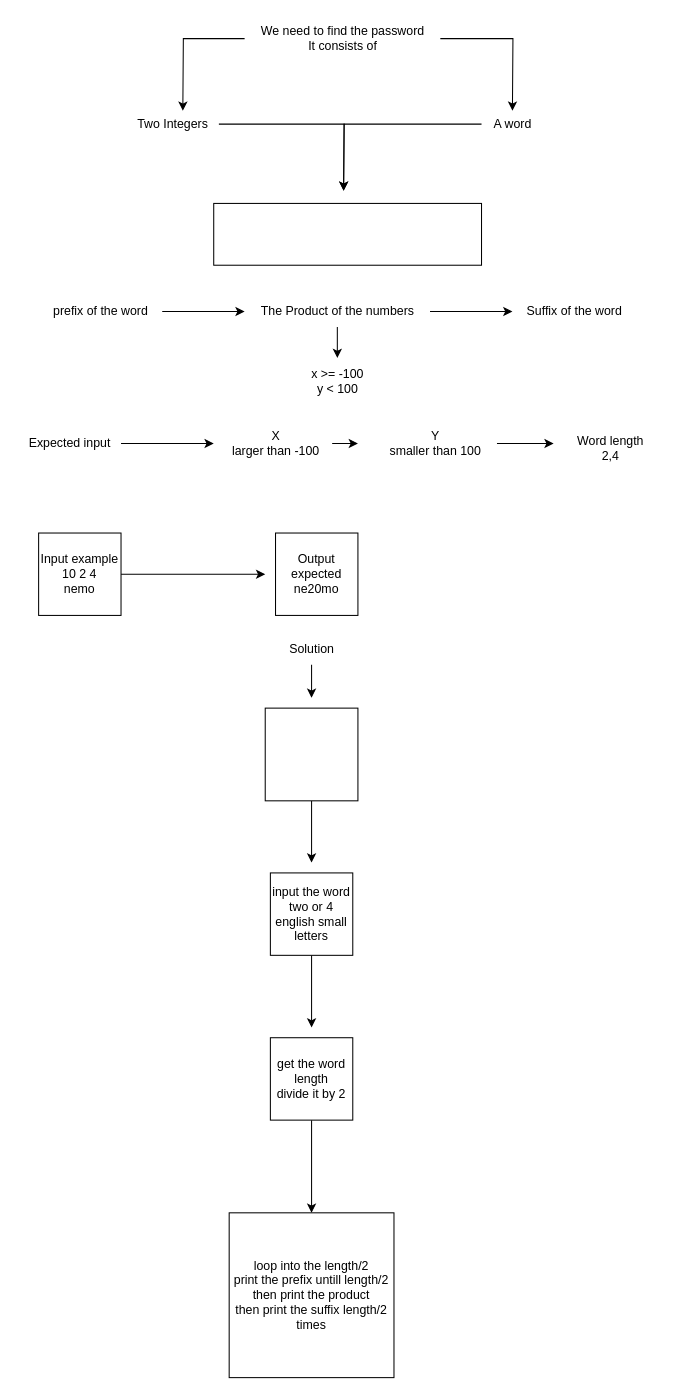
The diagram is 674 pixels wide and 1396 high, and some of its shapes have lost their labels. Each missing label, with the centre of its shape:
And it the format of the password is: the point at 347,233
input three ints: the point at 311,754
